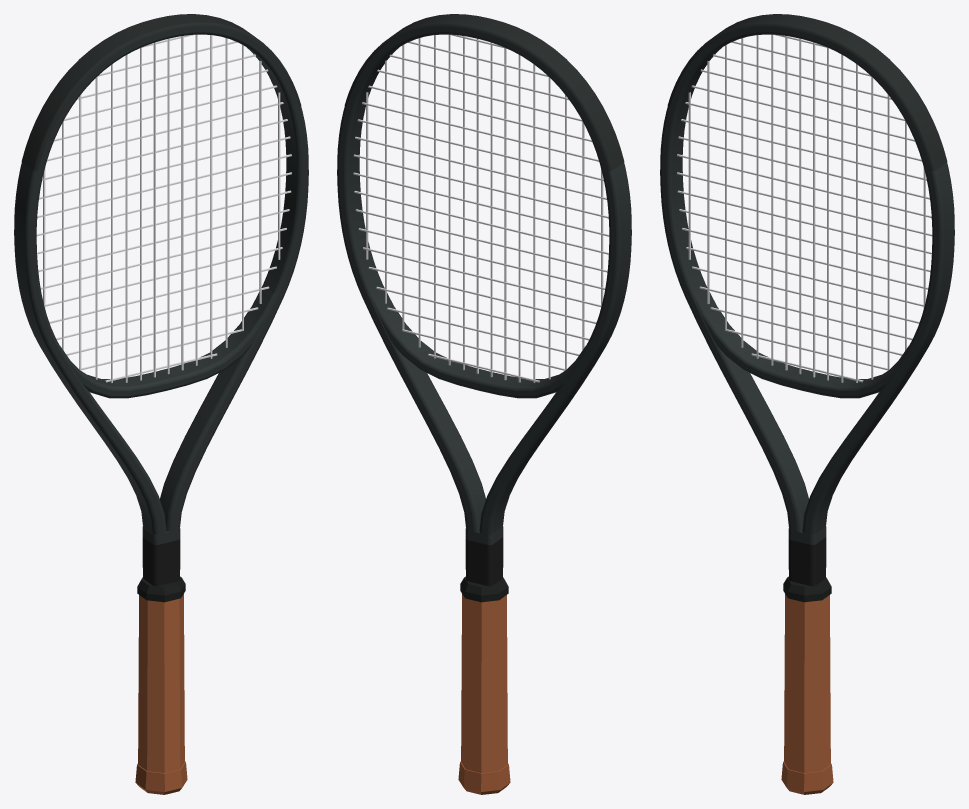
File: wilson-rf-01.glb
3 views of the same model, side by side, from view 1: azimuth 30°, elevation 25°; view 2: azimuth 150°, elevation 25°; view 3: azimuth 330°, elevation 25° (orthographic).
Parts seen in each view (by area): view 1: frame, strings_mains, strings_crosses, grip, bumper, butt_cap, collar; view 2: frame, strings_mains, strings_crosses, grip, bumper, butt_cap, collar; view 3: frame, strings_mains, strings_crosses, grip, bumper, butt_cap, collar.
Part boxes in pixels (x1,y1,x2,y2): frame: (14, 27, 308, 586); strings_mains: (43, 34, 280, 382); strings_crosses: (36, 34, 291, 382); grip: (138, 594, 184, 772); bumper: (21, 14, 301, 171); butt_cap: (135, 761, 187, 794); collar: (137, 576, 185, 602); frame: (337, 27, 631, 586); strings_mains: (366, 35, 603, 382); strings_crosses: (353, 34, 609, 382); grip: (461, 594, 507, 772); bumper: (344, 14, 624, 171); butt_cap: (458, 761, 510, 794); collar: (460, 576, 508, 602); frame: (660, 27, 954, 586); strings_mains: (688, 34, 925, 382); strings_crosses: (677, 34, 932, 382); grip: (784, 594, 830, 772); bumper: (667, 14, 947, 171); butt_cap: (781, 761, 833, 794); collar: (783, 576, 831, 602).
Bounding box in the file's own units: 0.2671 × 0.6861 × 0.0396.
